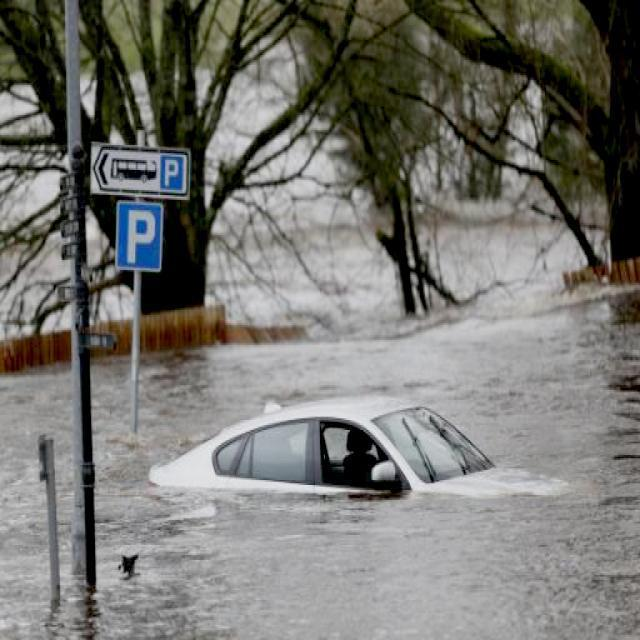water: (135, 291, 638, 639), (206, 146, 406, 343), (84, 357, 184, 639), (414, 190, 588, 311), (2, 367, 69, 638), (45, 369, 87, 638)
